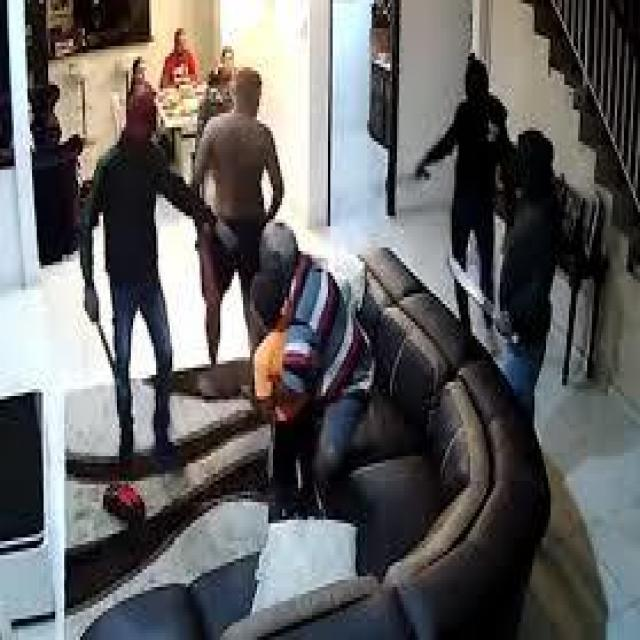weapon: (440, 244, 521, 346), (85, 294, 119, 392), (404, 159, 434, 188)
